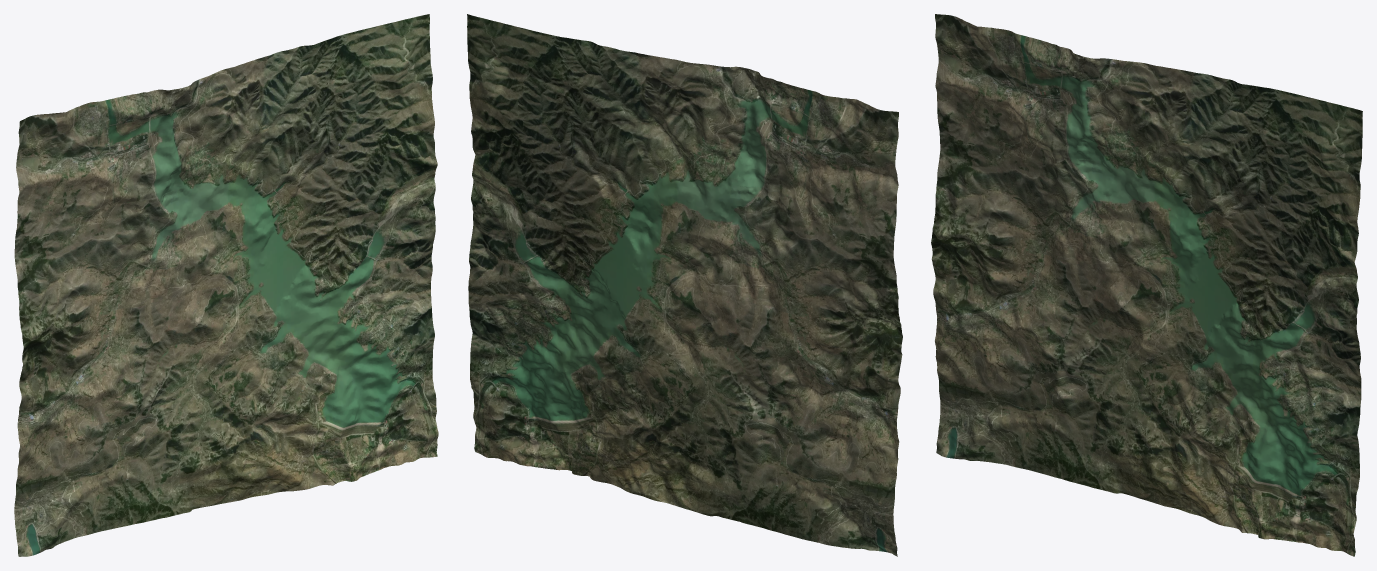
File: terrain.glb
3 views of the same model, side by side, from view 1: azimuth 30°, elevation 25°; view 2: azimuth 150°, elevation 25°; view 3: azimuth 330°, elevation 25° (orthographic).
Parts seen in each view (by area): view 1: mesh; view 2: mesh; view 3: mesh.
Boxes of the visible parts, box(x1,y1,x2,y2) form: mesh: box(14, 14, 438, 556); mesh: box(467, 14, 902, 556); mesh: box(931, 14, 1362, 556).
Bounding box in the file's own units: 7860 × 7860 × 502.
1 material, 1 textured.
